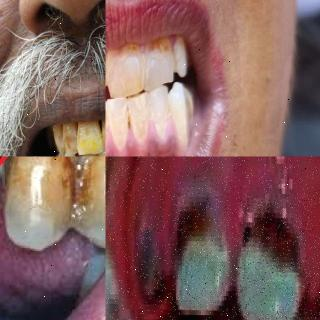calculus: (13, 156, 82, 216), (110, 109, 132, 155), (152, 94, 170, 145), (172, 101, 188, 155), (132, 108, 148, 152), (106, 48, 110, 93)
cavities: (231, 196, 309, 304), (170, 188, 242, 300)
maligned: (165, 76, 191, 156), (137, 36, 175, 90), (106, 39, 142, 91)
stains: (14, 156, 78, 240)
